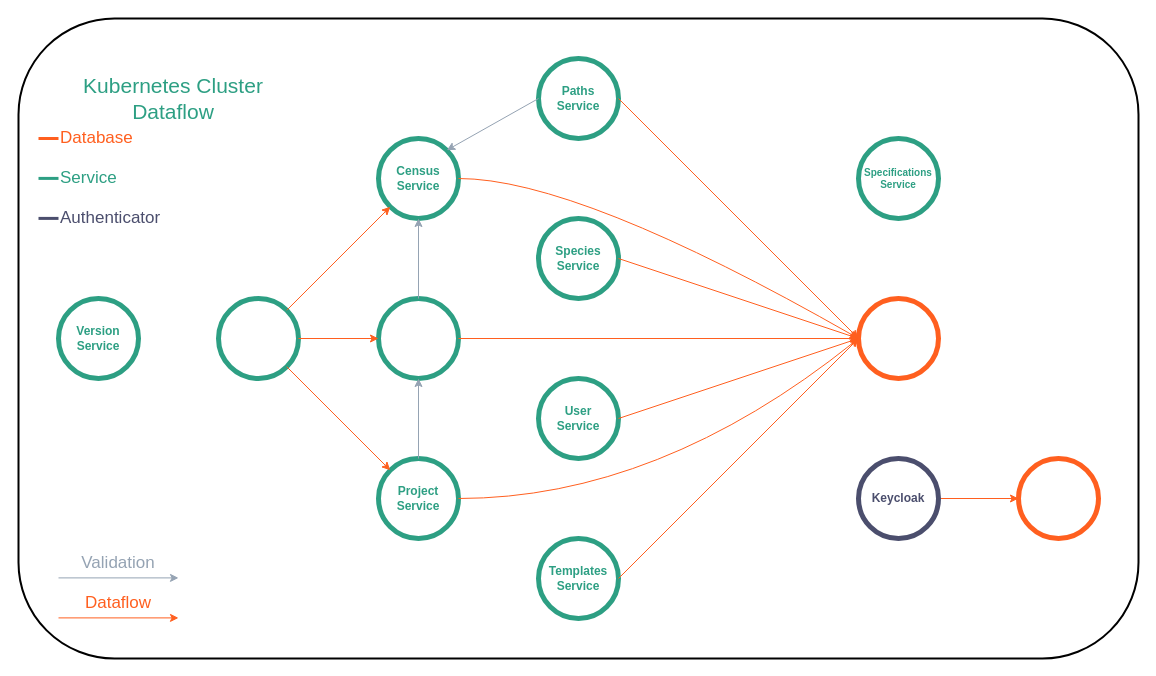
The diagram is 1156 pixels wide and 676 high, and some of its shapes have lost their labels. Here are the shapes that lost their labels. From the top down, the box of each, then its label:
(216, 296, 300, 380): Sync Service
(376, 296, 460, 380): Region Service
(856, 296, 940, 380): MongoDB
(1016, 456, 1100, 540): PostgreSQL
